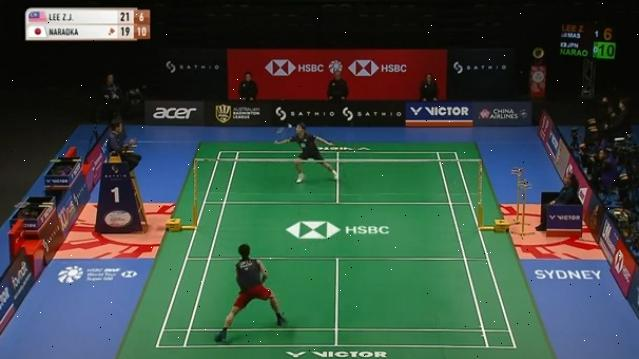Shuttlecock: (284, 122, 292, 130)
